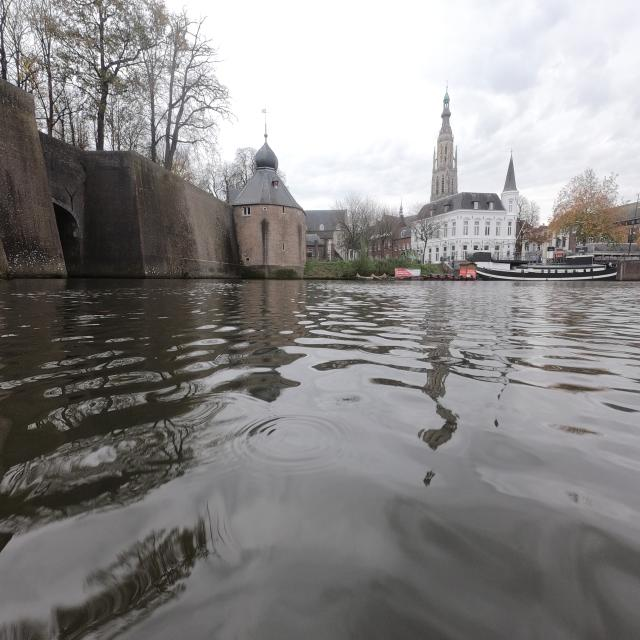boat: (473, 252, 616, 281)
grass: (304, 257, 447, 279)
sky: (166, 4, 638, 226)
wall: (0, 79, 306, 278), (616, 262, 640, 281)
water: (10, 288, 634, 634)
